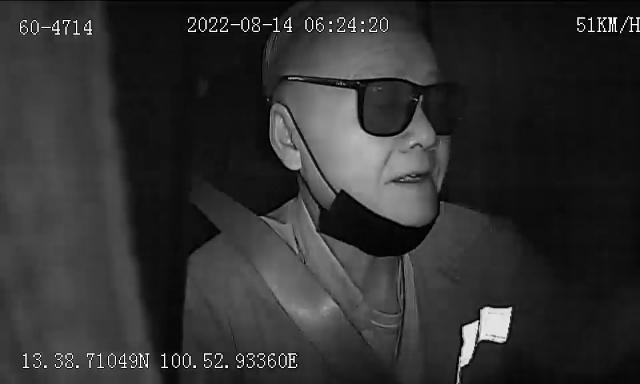Seatbelt: (174, 150, 406, 384)
